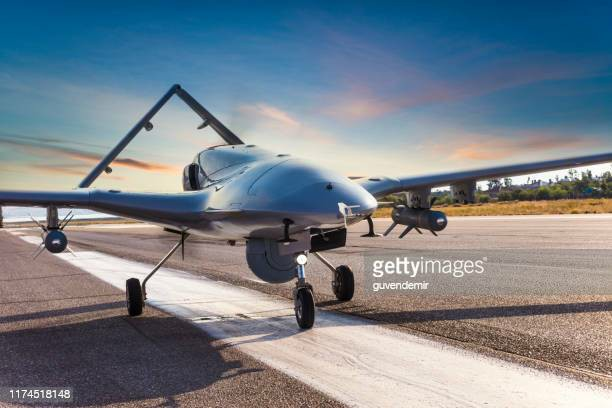maybay_khongnguoilai: (24, 84, 612, 332)
